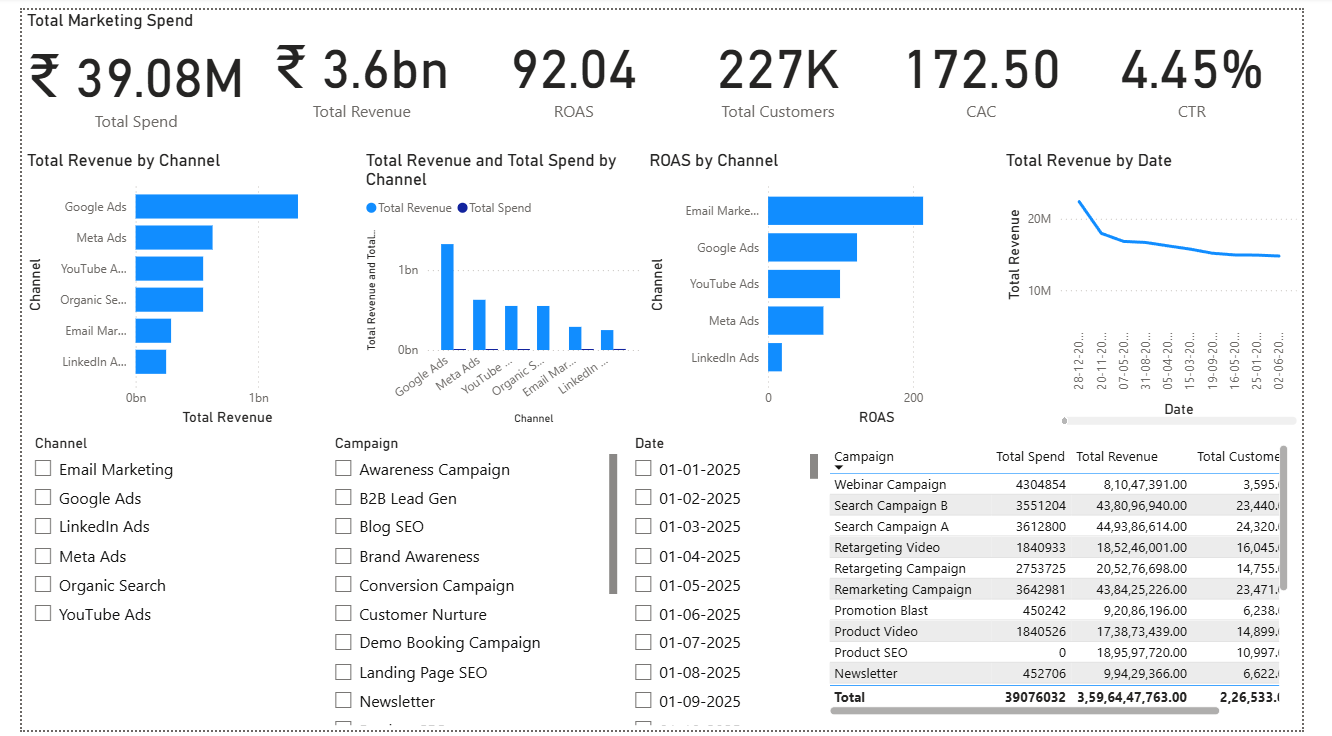

This screenshot's page, from the dashboard's own definition file:
{"tool":"powerbi","page":{"name":"Executive Dashboard","canvas":[1280,720],"ordinal":0},"visuals":[{"type":"card","title":"Total Marketing Spend","fields":{"Values":["Campaign_Data.Total Spend"]},"box":[0,0,228.8,125],"z":0},{"type":"card","fields":{"Values":["Campaign_Data.Total Revenue"]},"box":[230,0,220,125],"z":1000},{"type":"card","fields":{"Values":["Campaign_Data.ROAS"]},"box":[450,0,203.8,125],"z":2000},{"type":"card","fields":{"Values":["Campaign_Data.Total Customers"]},"box":[653.8,0,205,125],"z":3000},{"type":"card","fields":{"Values":["Campaign_Data.CAC"]},"box":[858.8,0,201.2,125],"z":4000},{"type":"card","fields":{"Values":["Campaign_Data.CTR"]},"box":[1060,0,220,125],"z":5000},{"type":"clusteredBarChart","fields":{"Category":["Campaign_Data.Channel"],"Y":["Campaign_Data.Total Revenue"]},"box":[0,140,317.5,280],"z":6000},{"type":"clusteredColumnChart","fields":{"Category":["Campaign_Data.Channel"],"Y":["Campaign_Data.Total Revenue","Campaign_Data.Total Spend"]},"box":[338.8,140,283.8,280],"z":7000},{"type":"clusteredBarChart","fields":{"Category":["Campaign_Data.Channel"],"Y":["Campaign_Data.ROAS"]},"box":[622.5,140,356.2,280],"z":8000},{"type":"lineChart","fields":{"Category":["Campaign_Data.Date"],"Y":["Campaign_Data.Total Revenue"]},"box":[978.8,140,301.2,280],"z":9000},{"type":"tableEx","fields":{"Values":["Campaign_Data.Campaign","Campaign_Data.Total Spend","Campaign_Data.Total Revenue","Campaign_Data.Total Customers","Campaign_Data.ROAS"]},"box":[801.2,430,470,280],"z":10000},{"type":"slicer","fields":{"Values":["Campaign_Data.Channel"]},"box":[0,420,300,300],"z":11000},{"type":"slicer","fields":{"Values":["Campaign_Data.Campaign"]},"box":[300,420,300,300],"z":12000},{"type":"slicer","fields":{"Values":["Campaign_Data.Date"]},"box":[600,420,201.2,300],"z":13000}]}

Visuals, with their boxes in screenshot pixels (x1, y1, x2, y2), scaled from the page's 1280x720 canvas onto the 1332x736 screenshot:
"Total Marketing Spend" card: box=[0, 0, 238, 128]
card - Campaign_Data.Total Revenue: box=[239, 0, 468, 128]
card - Campaign_Data.ROAS: box=[468, 0, 680, 128]
card - Campaign_Data.Total Customers: box=[680, 0, 894, 128]
card - Campaign_Data.CAC: box=[894, 0, 1103, 128]
card - Campaign_Data.CTR: box=[1103, 0, 1331, 128]
clusteredBarChart - Campaign_Data.Channel x Campaign_Data.Total Revenue: box=[0, 143, 330, 429]
clusteredColumnChart - Campaign_Data.Channel x Campaign_Data.Total Revenue: box=[353, 143, 648, 429]
clusteredBarChart - Campaign_Data.Channel x Campaign_Data.ROAS: box=[648, 143, 1018, 429]
lineChart - Campaign_Data.Date x Campaign_Data.Total Revenue: box=[1019, 143, 1331, 429]
tableEx - Campaign_Data.Campaign x Campaign_Data.Total Spend: box=[834, 440, 1323, 726]
slicer - Campaign_Data.Channel: box=[0, 429, 312, 735]
slicer - Campaign_Data.Campaign: box=[312, 429, 624, 735]
slicer - Campaign_Data.Date: box=[624, 429, 834, 735]
